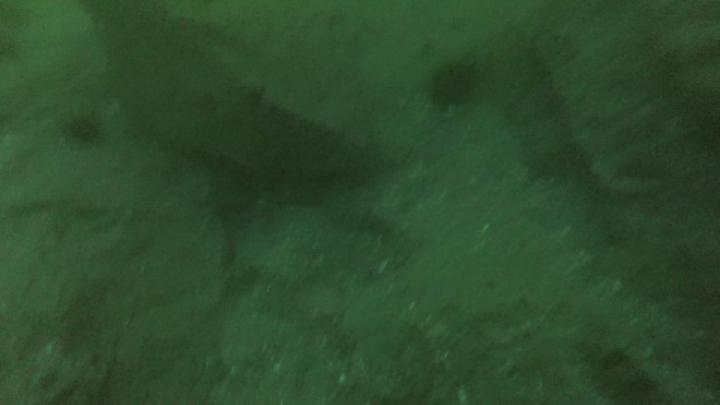echinus: (426, 46, 482, 115), (58, 105, 111, 151)
